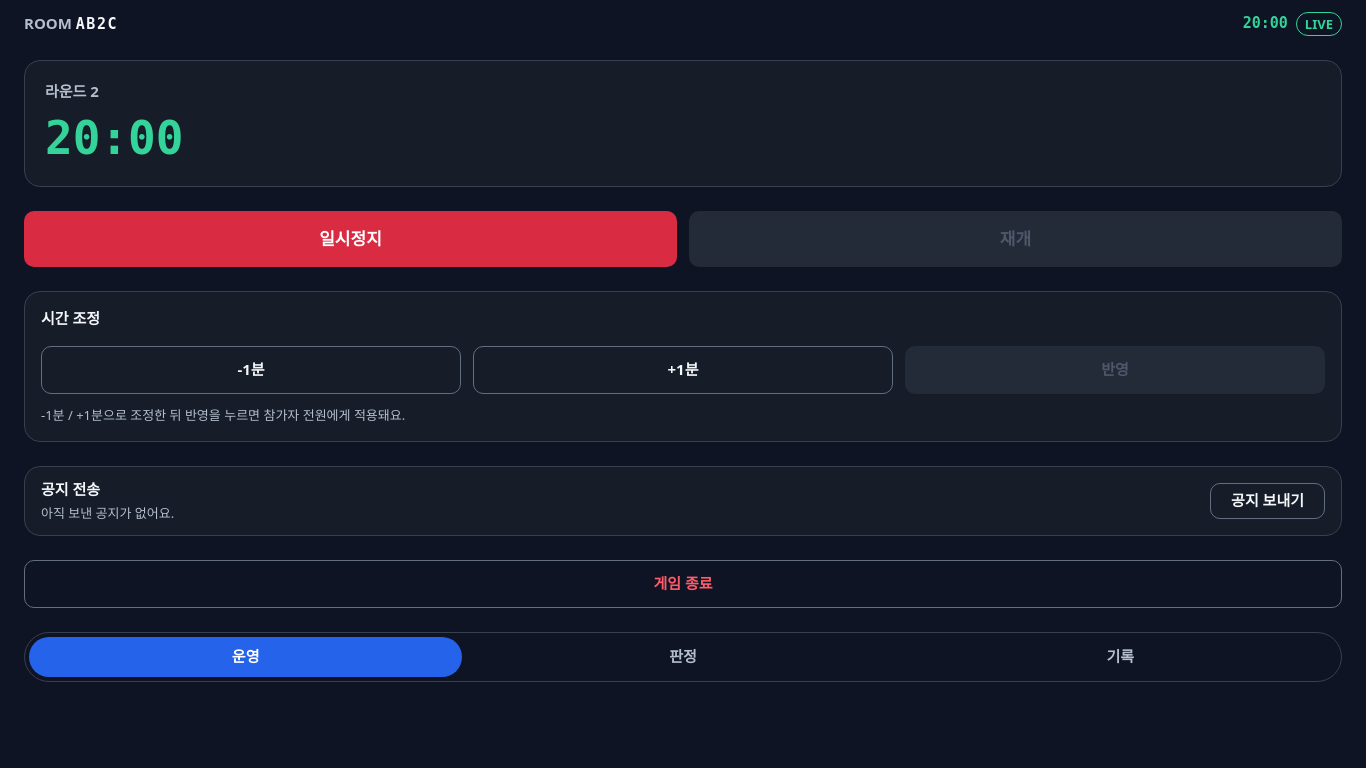
Test: RoundOpsPage › 컨트롤 › 시간 조정은 대기값을 쌓고 반영을 눌러야 서버에 쓴다
expect the button "반영" is disabled: met, box left=905, top=346, right=1325, bottom=394
What coordinates should you click on to do the following:
click the button "+1분"
I would click on:
 (683, 370)
Its box is left=473, top=346, right=893, bottom=394.
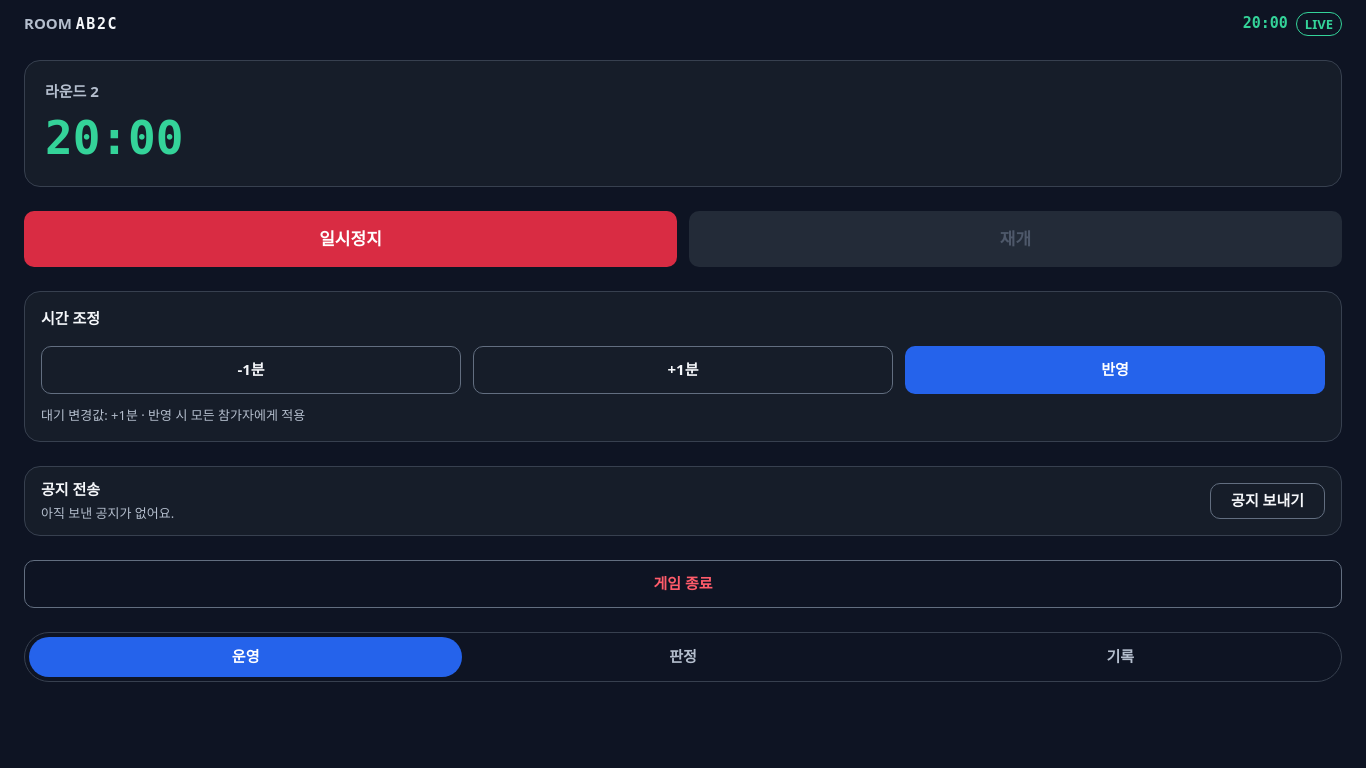
What coordinates should you click on to do the following:
click the button "+1분"
I would click on:
 (683, 370)
Its box is left=473, top=346, right=893, bottom=394.
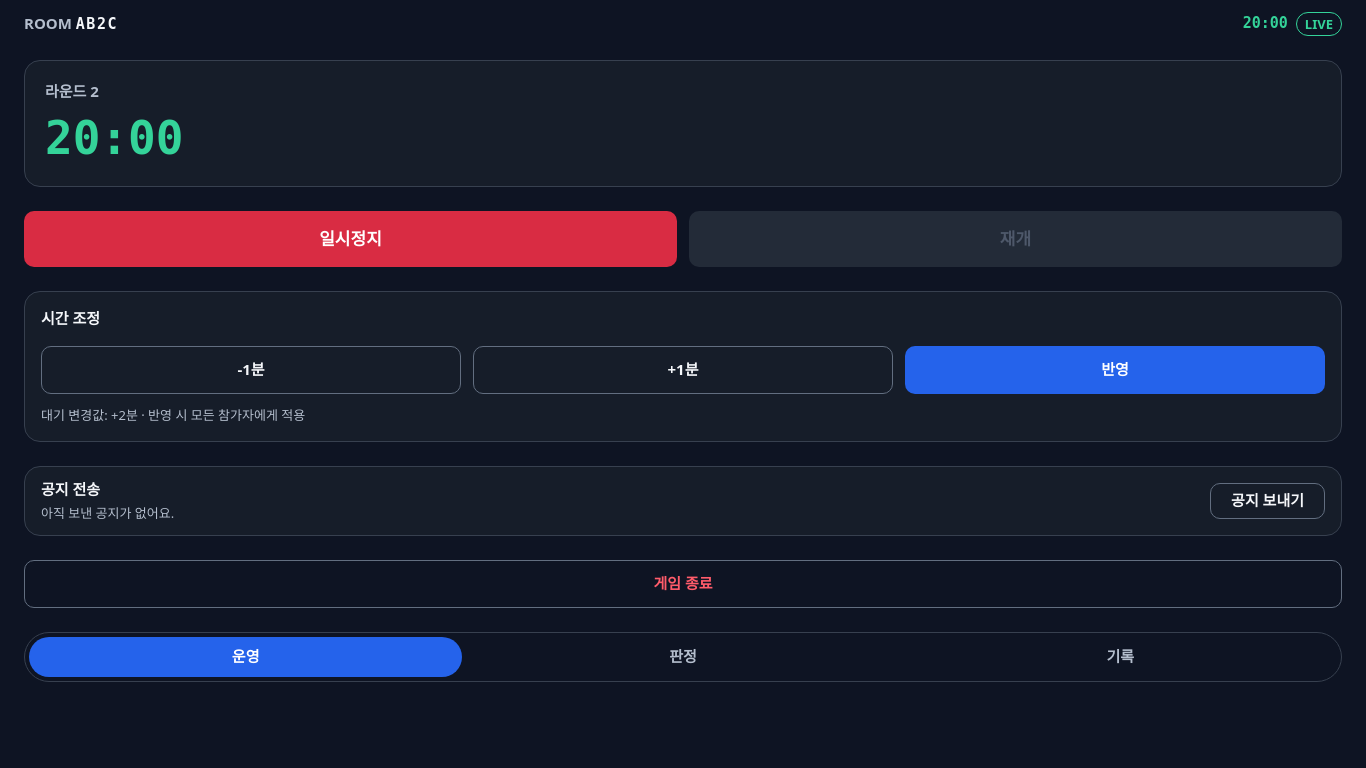
expect the text "대기 변경값: +2분" is shown: met, box left=41, top=406, right=305, bottom=424
What coordinates should you click on to do the following:
click the button "반영"
I would click on:
 (1115, 370)
Its box is left=905, top=346, right=1325, bottom=394.
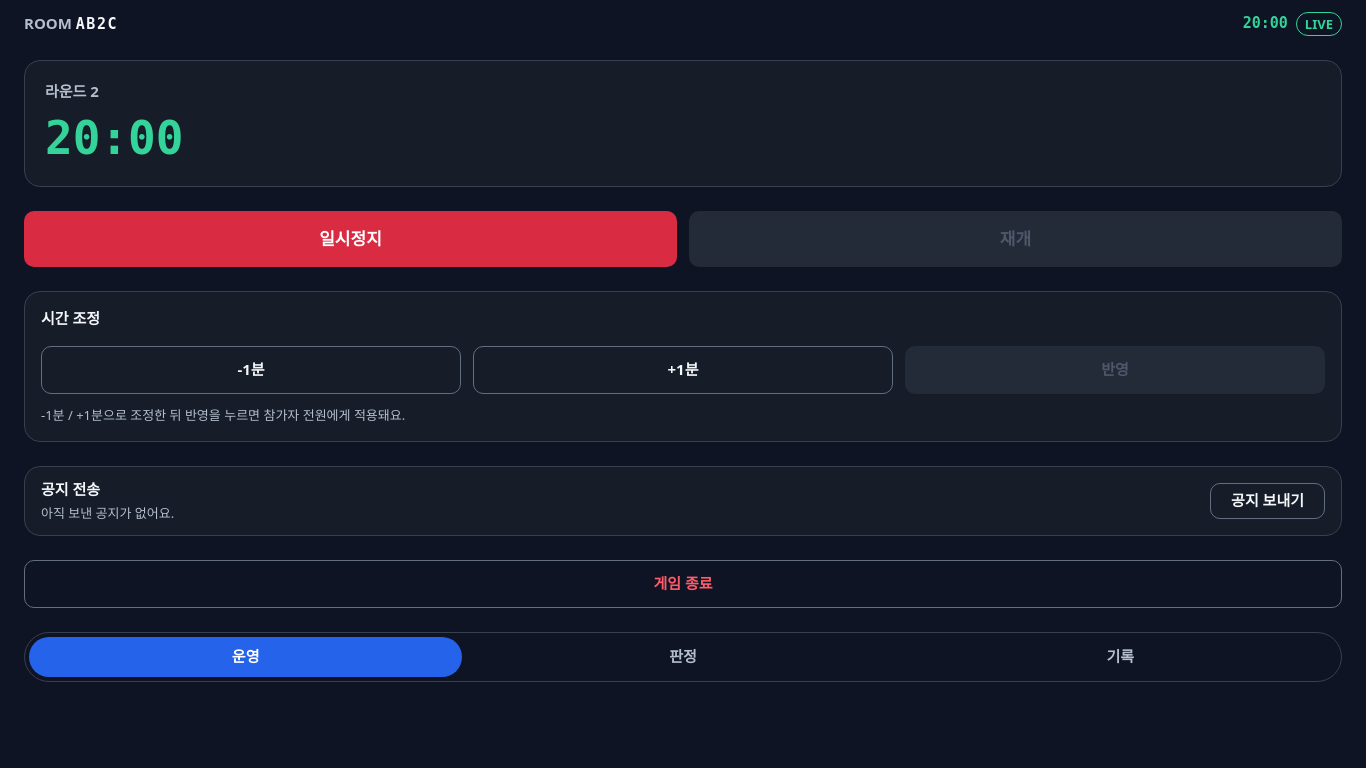
expect the text "대기 변경값" is gone: met
